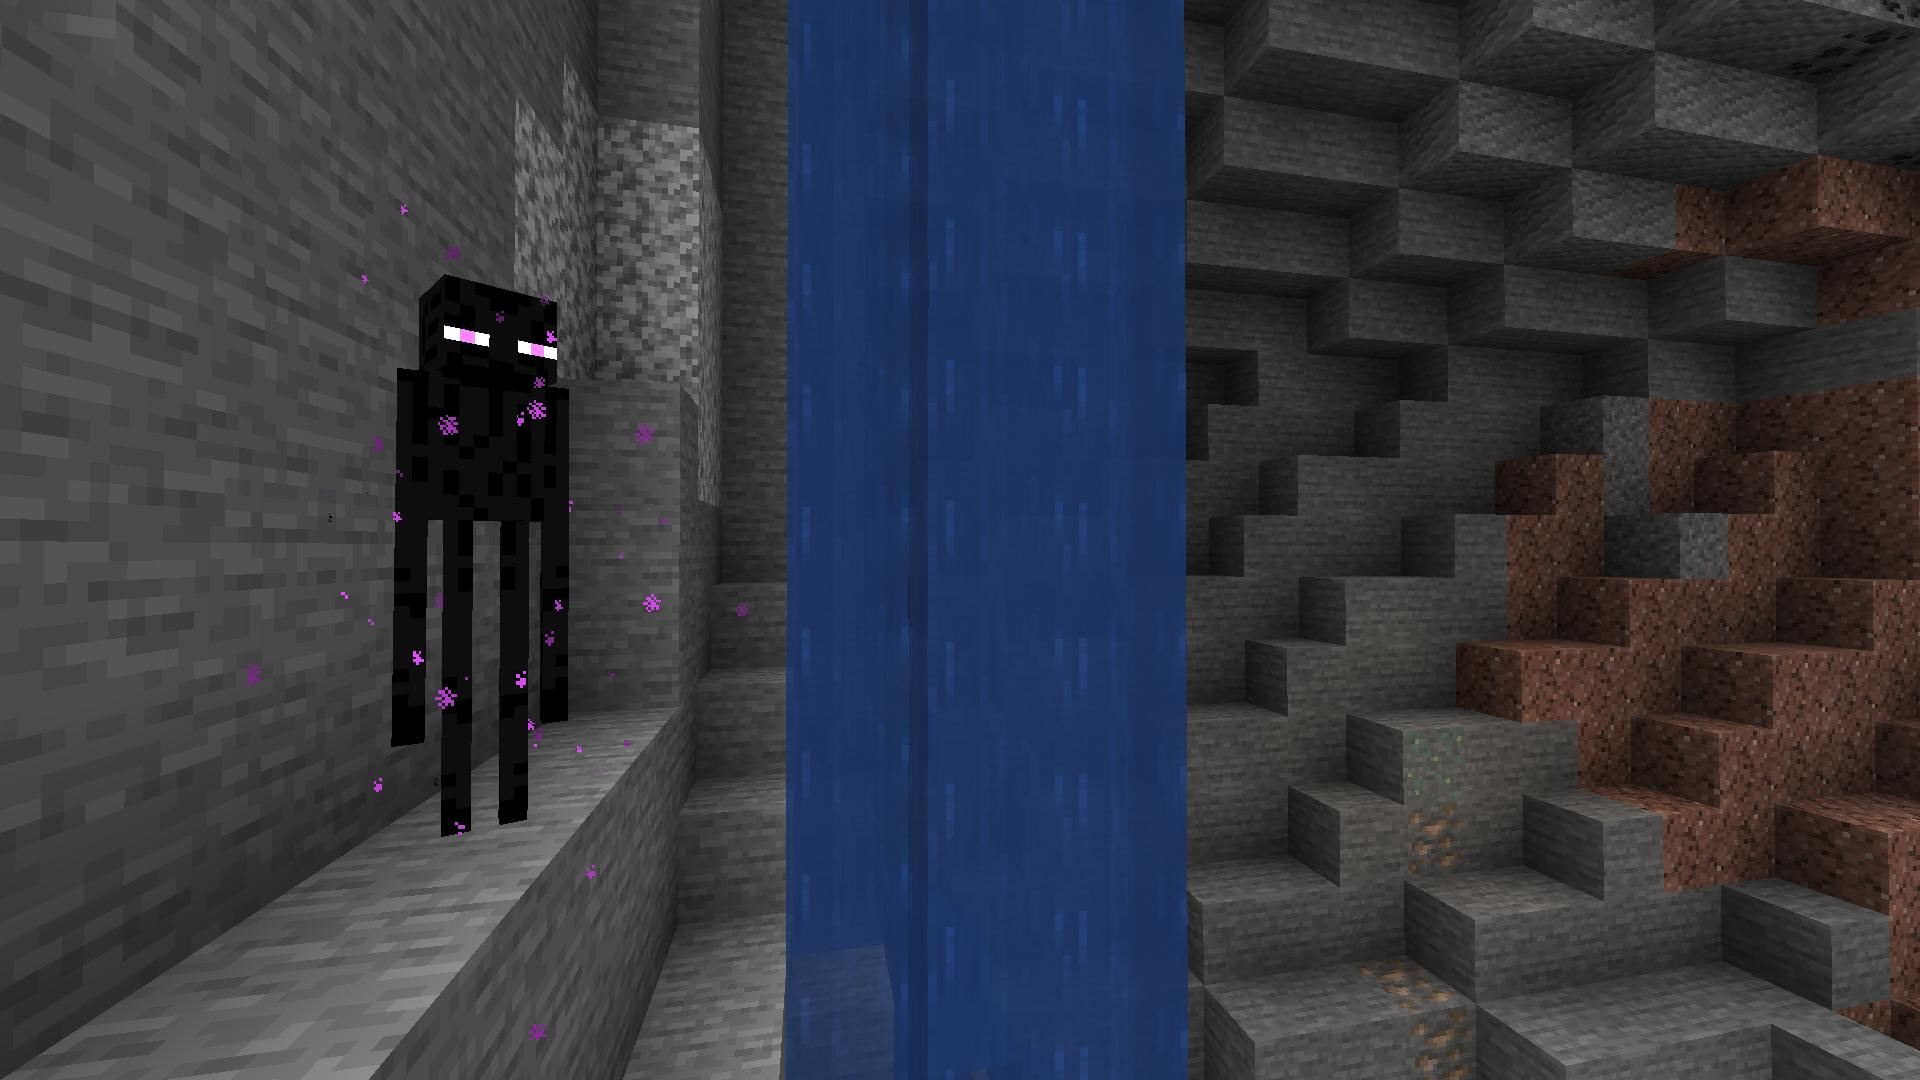enderman: (385, 258, 592, 849)
